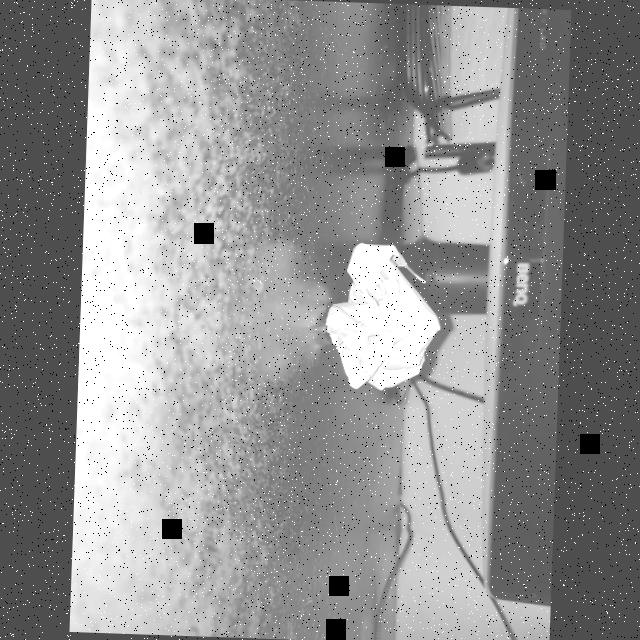scrap_paper: (322, 240, 446, 394)
